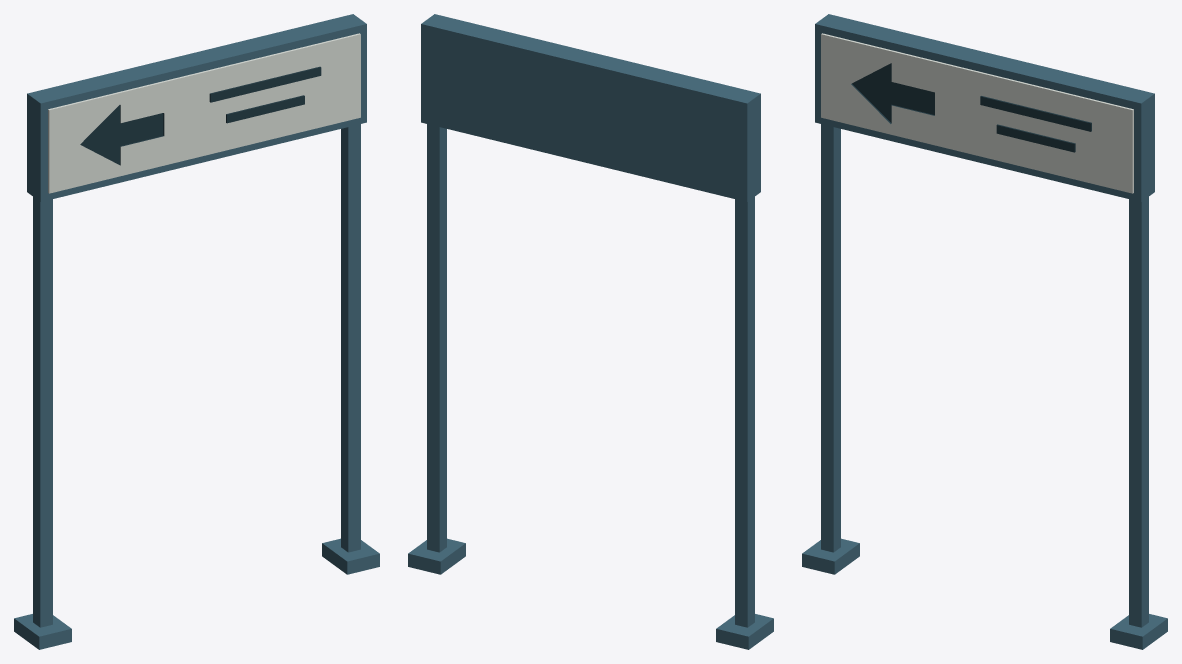
The model's file is station-guidance-sign.lod1.glb.
3 renders of one model, left to right at view 1: azimuth 30°, elevation 25°; view 2: azimuth 150°, elevation 25°; view 3: azimuth 330°, elevation 25°, orthographic.
Visible parts, largest first — view 1: module-batch-painted-metal, module-batch-sign-face, module-batch-sign-symbol; view 2: module-batch-painted-metal; view 3: module-batch-painted-metal, module-batch-sign-face, module-batch-sign-symbol.
Part boxes in pixels (box(x1,y1,x2,y2)): module-batch-painted-metal: box(14, 14, 379, 649); module-batch-sign-face: box(48, 33, 360, 193); module-batch-sign-symbol: box(80, 66, 321, 165); module-batch-painted-metal: box(408, 14, 773, 649); module-batch-painted-metal: box(802, 14, 1167, 649); module-batch-sign-face: box(821, 33, 1133, 193); module-batch-sign-symbol: box(851, 63, 1091, 152).
Bounding box in the file's own units: 1.88 × 2.85 × 0.24.
